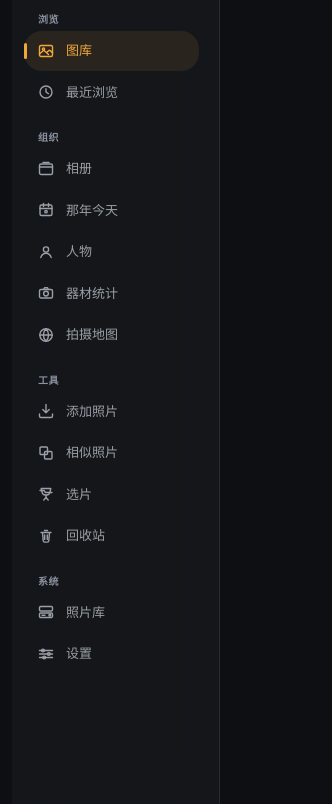
Sidebar（M4.5 A3 分组信息架构） › B1 回收站入口（工具组，指 /trash，无计数徽标）
Click the link "回收站" at [72, 535], box [38,527,105,544]
(page scrolled)
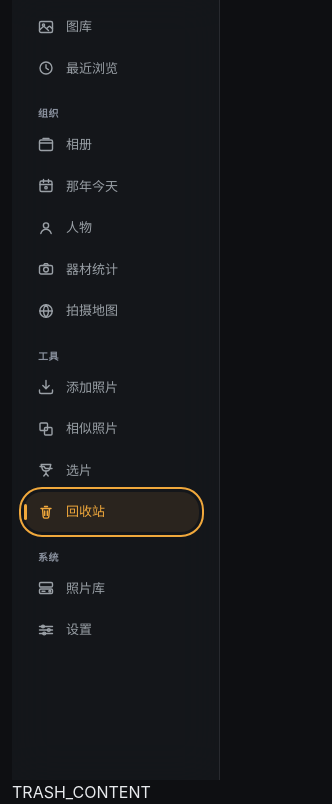
Now the text "TRASH_CONTENT" is shown, box [12,782,151,802]
